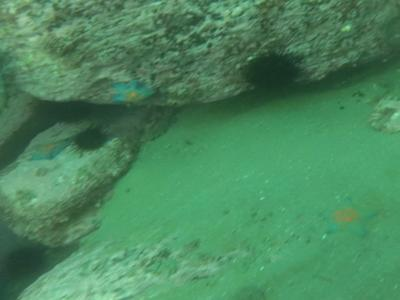urchin: (241, 49, 300, 95), (66, 123, 112, 154)
